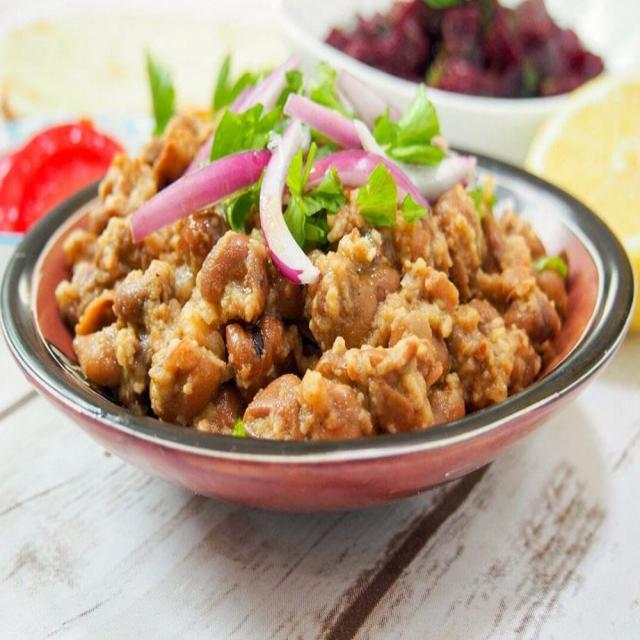fool: (65, 152, 577, 444)
